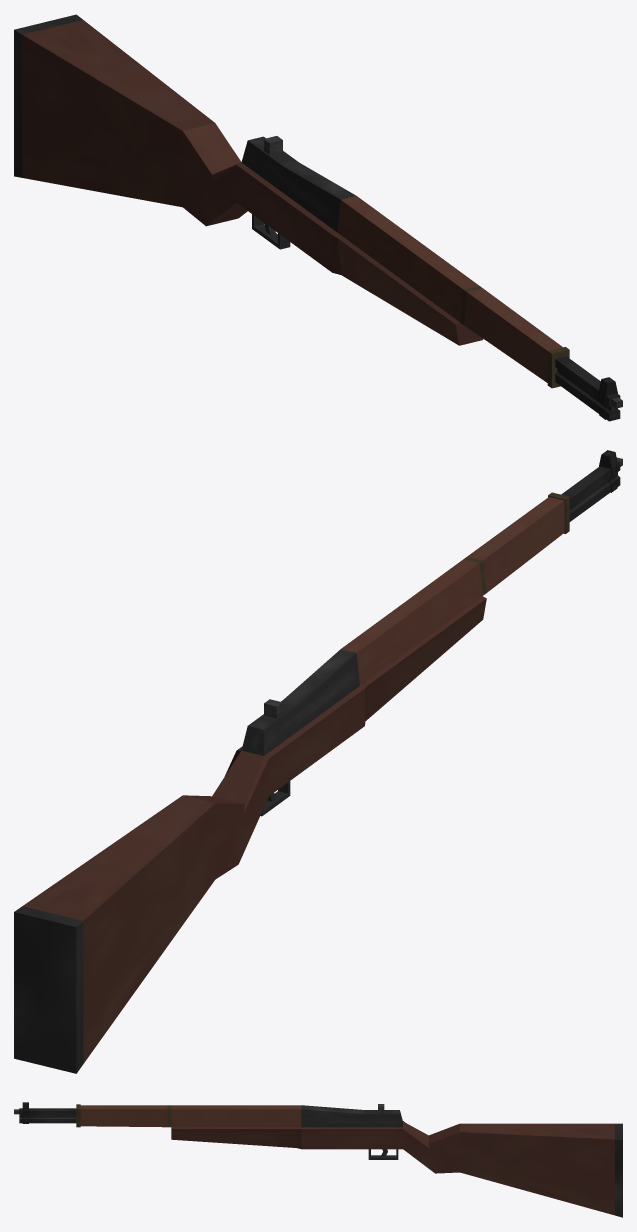
Rendered from Rifle1.fbx.
The picture shows the model from 3 angles, top to bottom: view 1: azimuth 30°, elevation 25°; view 2: azimuth 150°, elevation 25°; view 3: azimuth 270°, elevation 25°; orthographic projection. The views are drawn at different scales.
Visible parts, largest first — view 1: Rifle1; view 2: Rifle1; view 3: Rifle1.
Part boxes in pixels (x1,y1,x2,y2): Rifle1: [14, 14, 622, 421]; Rifle1: [14, 450, 622, 1073]; Rifle1: [14, 1102, 622, 1217].
Size of the model in its own units: 0.0688 by 0.2112 by 1.1.
